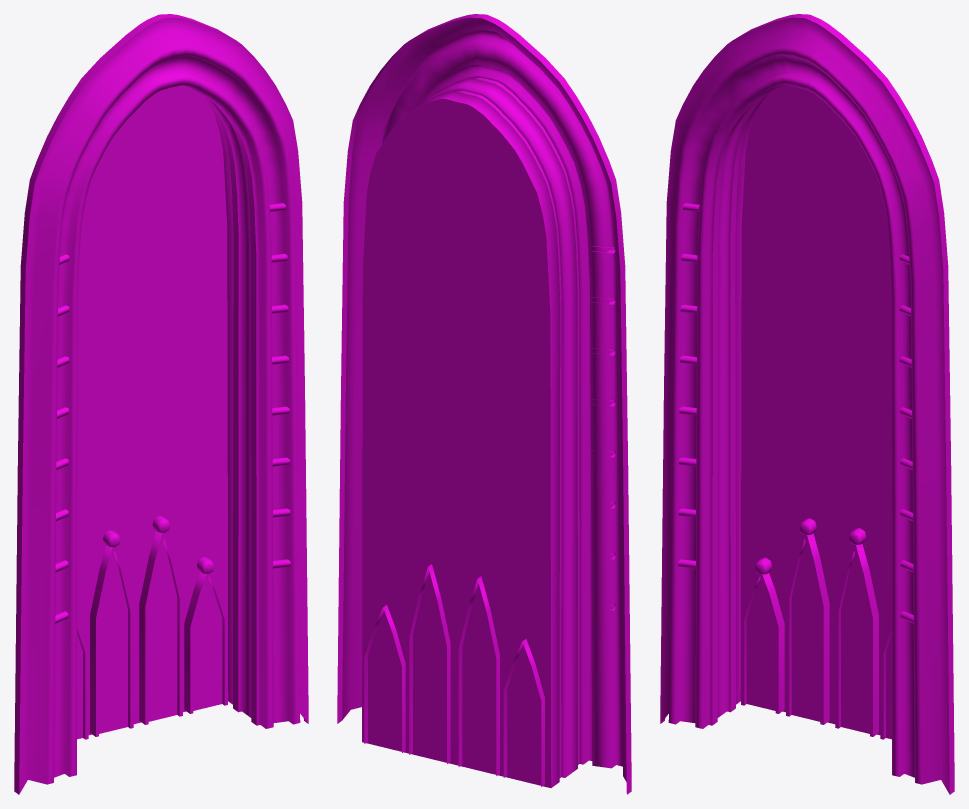
Rendered from SM_Entrance_Bal.fbx.
3 views of the same model, side by side, from view 1: azimuth 30°, elevation 25°; view 2: azimuth 150°, elevation 25°; view 3: azimuth 330°, elevation 25° (orthographic).
Parts seen in each view (by area): view 1: SM_Entrance_Bal; view 2: SM_Entrance_Bal; view 3: SM_Entrance_Bal.
Boxes of the visible parts, x1,y1,x2,y2 form: SM_Entrance_Bal: (14, 14, 308, 794); SM_Entrance_Bal: (337, 14, 631, 794); SM_Entrance_Bal: (660, 14, 954, 794).
Size of the model in its own units: 11.5 by 28.12 by 3.02.
